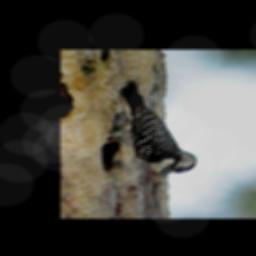Woodpecker: (107, 80, 198, 178)
